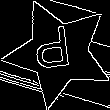P_S: (37, 26, 80, 80)
